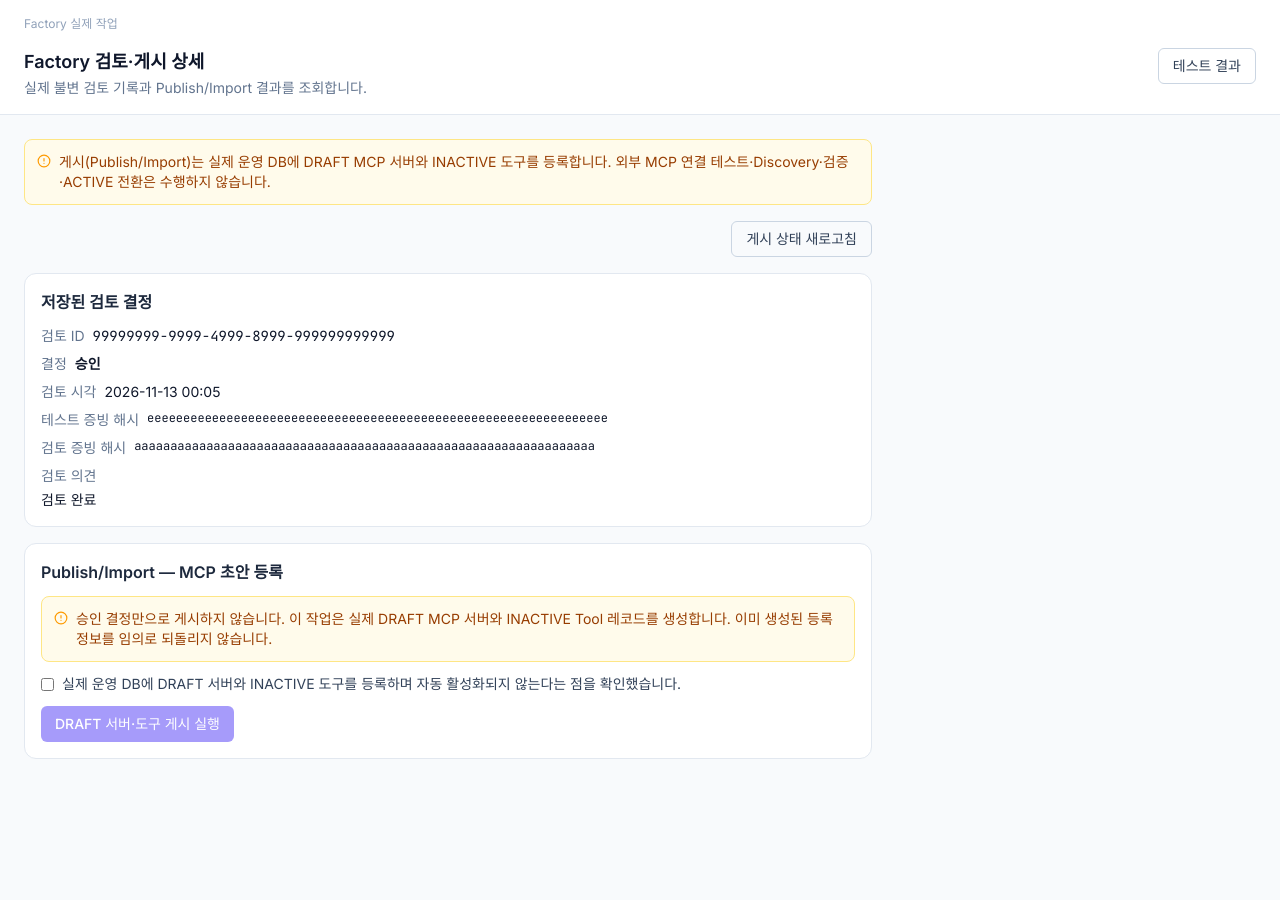
Test case: Factory immutable Review and safe Publish/Import › publish imports approved Review as DRAFT server/INACTIVE tools with stable retry key
Expected: the heading "저장된 검토 결정" is shown, [41,292,152,312]
Click the checkbox labelled "실제 운영 DB에 DRAFT 서버" at (48, 684), box [41,678,54,691]
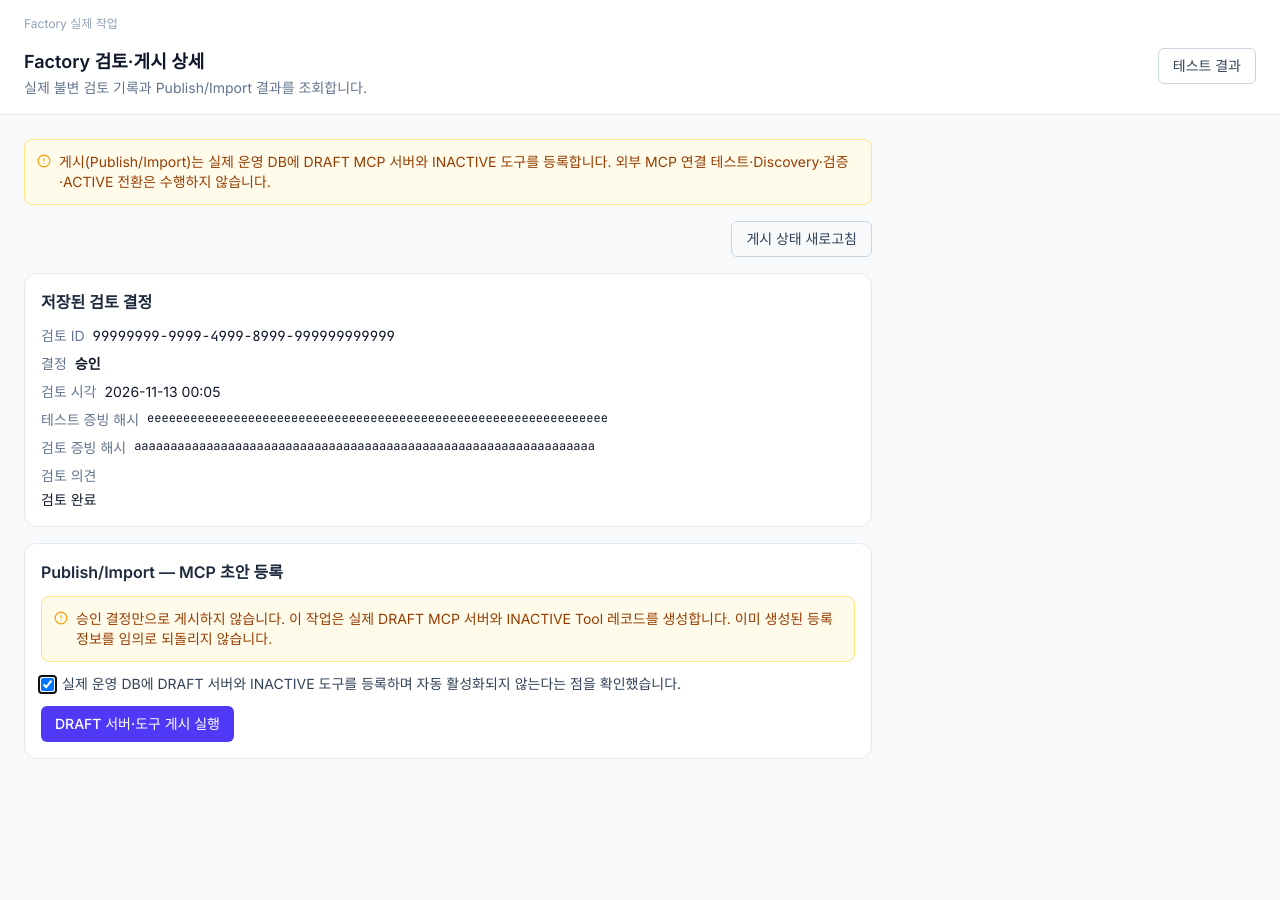
Click the button "DRAFT 서버·도구 게시 실행" at (138, 724), box [41,706,234,742]
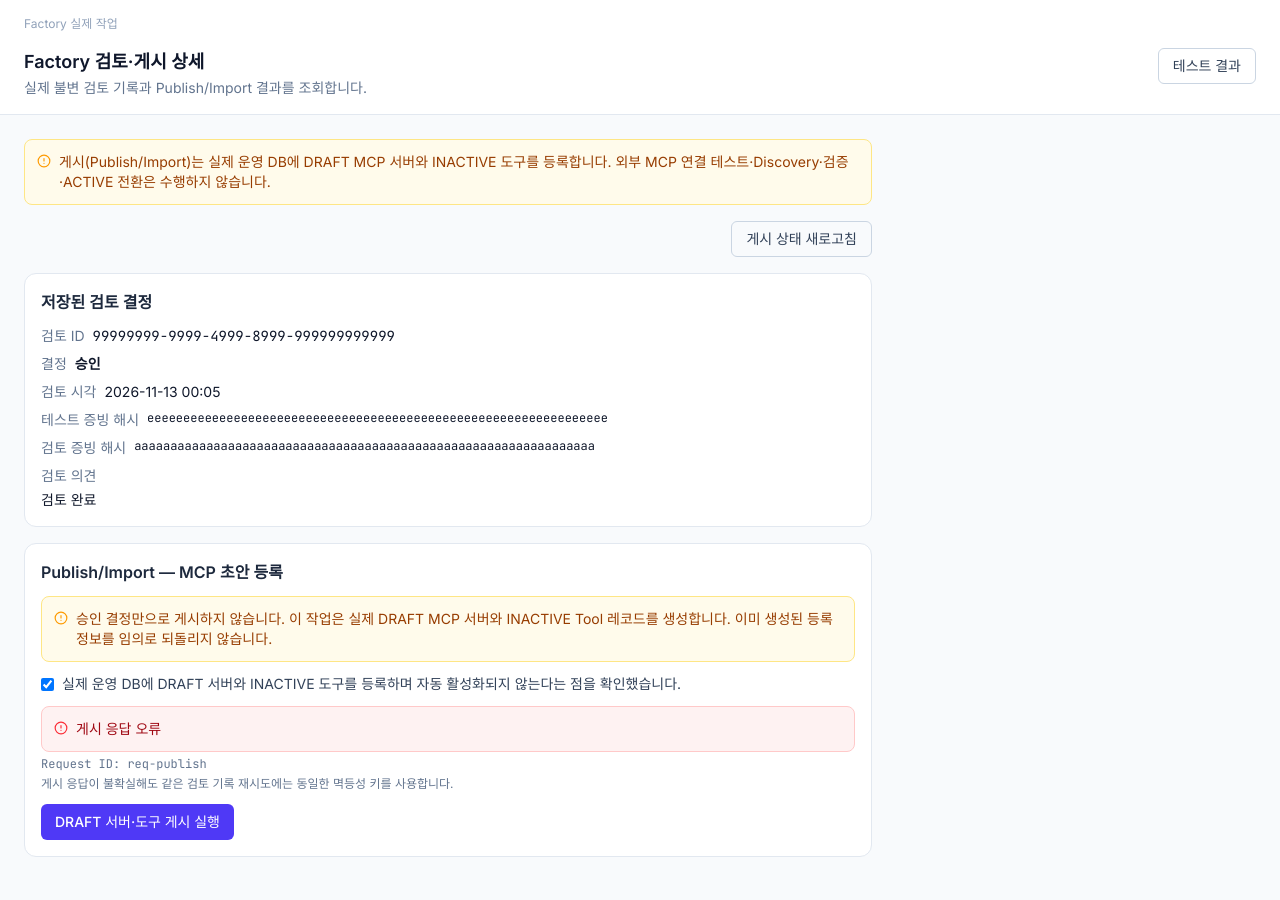
Expected: the text "게시 응답 오류" is shown, [76,719,161,739]
Click the button "DRAFT 서버·도구 게시 실행" at (138, 822), box [41,804,234,840]
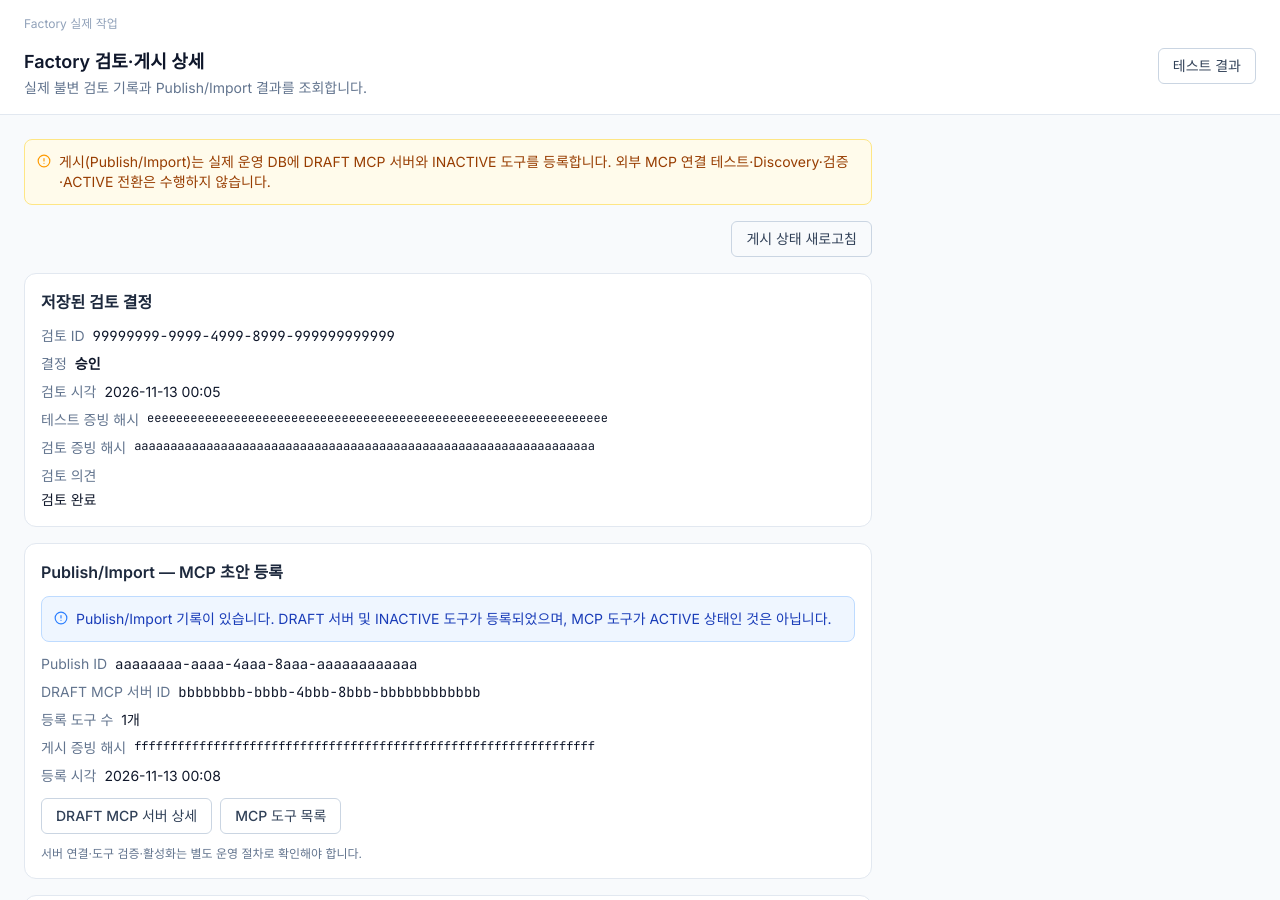
Expected: the text "DRAFT 서버 및 INACTIVE 도구가 등록되었으며" is shown, [76,610,832,627]
Expected: the text "bbbbbbbb-bbbb-4bbb-8bbb-bbbbbbbbbbbb" is shown, [178,682,481,702]
